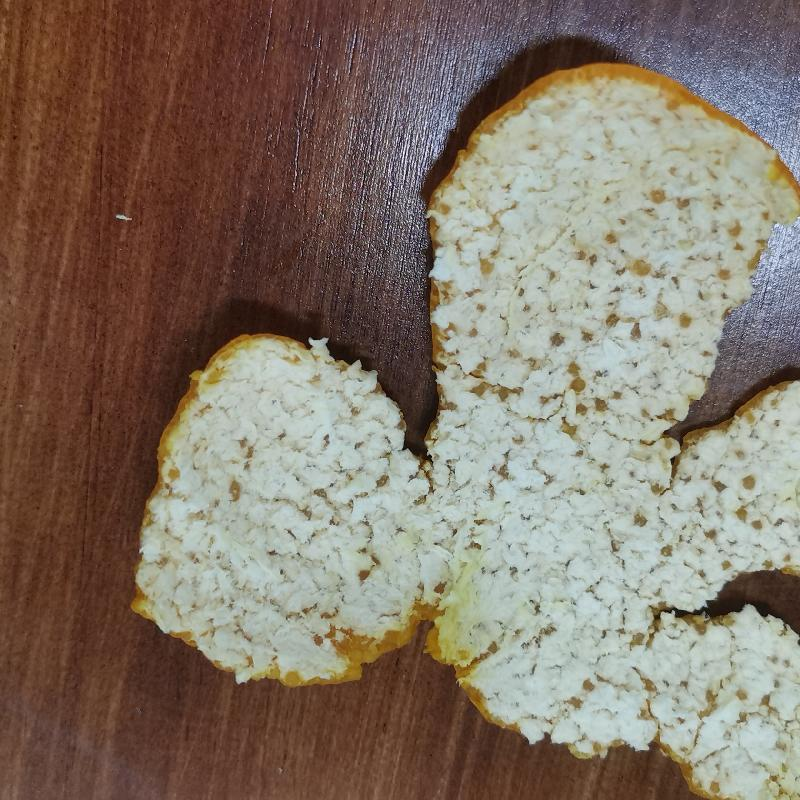orange: (133, 58, 799, 799)
